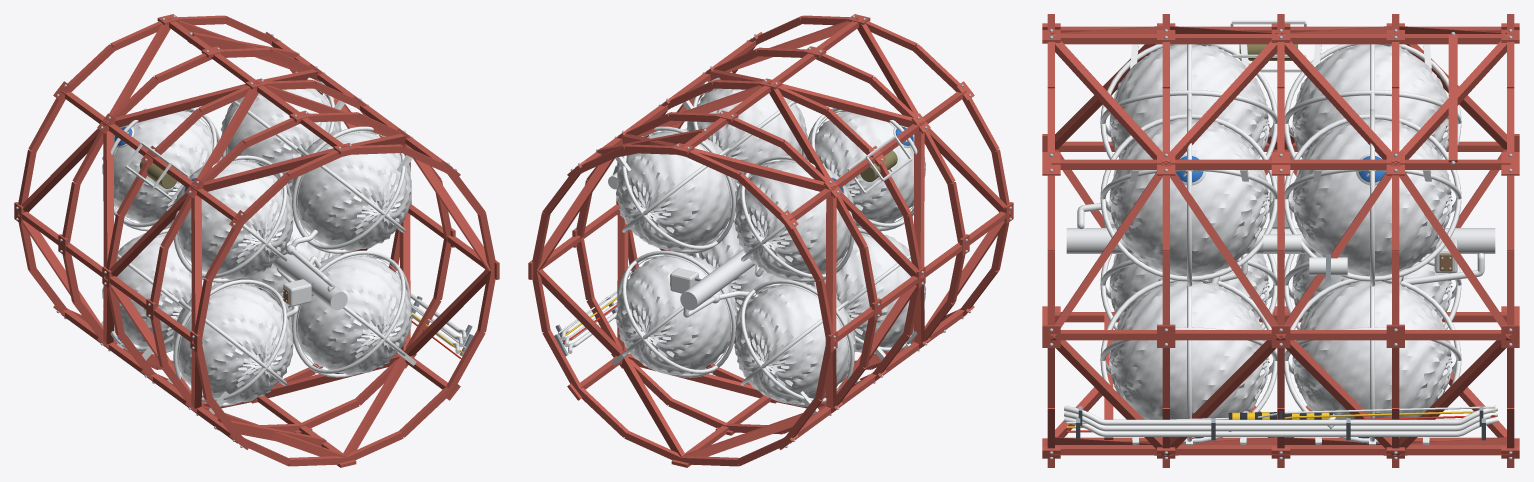
File: tank-6-rcs.glb
3 views of the same model, side by side, from view 1: azimuth 30°, elevation 25°; view 2: azimuth 150°, elevation 25°; view 3: azimuth 270°, elevation 25° (orthographic). The views are drawn at different scales.
Visible parts, largest first — view 1: rcs_red_box_truss, rcs_sphere_1_3, rcs_sphere_1_0, rcs_sphere_1_2, rcs_sphere_1_1, rcs_sphere_0_1, rcs_sphere_0_2, rcs_sphere_0_0, manifold_spine, rcs_sphere_0_3, rcs_sphere_cage_1_3_0, rcs_sphere_cage_1_3_1 (+13 smaller); view 2: rcs_red_box_truss, rcs_sphere_0_3, rcs_sphere_0_2, rcs_sphere_0_0, rcs_sphere_0_1, rcs_sphere_1_1, rcs_sphere_1_2, rcs_sphere_1_0, rcs_sphere_1_3, manifold_spine, rcs_sphere_cage_0_3_0, rcs_sphere_cage_0_3_1 (+13 smaller); view 3: rcs_red_box_truss, rcs_sphere_1_3, rcs_sphere_1_0, rcs_sphere_0_0, rcs_sphere_0_3, rcs_sphere_1_1, rcs_sphere_0_1, rcs_white_external_pipe_bundle, manifold_spine, rcs_sphere_1_2, rcs_sphere_cage_1_0_1, rcs_sphere_cage_0_0_1 (+26 smaller).
Part boxes in pixels (<box>): rcs_red_box_truss: <box>14,14,499,467</box>; rcs_sphere_1_3: <box>291,253,411,375</box>; rcs_sphere_1_0: <box>291,129,411,251</box>; rcs_sphere_1_2: <box>172,282,293,404</box>; rcs_sphere_1_1: <box>172,159,293,279</box>; rcs_sphere_0_1: <box>102,108,222,228</box>; rcs_sphere_0_2: <box>102,233,222,351</box>; rcs_sphere_0_0: <box>220,88,341,192</box>; manifold_spine: <box>272,254,347,310</box>; rcs_sphere_0_3: <box>228,216,341,308</box>; rcs_sphere_cage_1_3_0: <box>292,250,410,377</box>; rcs_sphere_cage_1_3_1: <box>297,255,405,373</box>; rcs_red_box_truss: <box>528,14,1013,467</box>; rcs_sphere_0_3: <box>616,253,737,374</box>; rcs_sphere_0_2: <box>734,282,855,403</box>; rcs_sphere_0_0: <box>616,129,737,250</box>; rcs_sphere_0_1: <box>734,159,855,279</box>; rcs_sphere_1_1: <box>805,106,925,228</box>; rcs_sphere_1_2: <box>805,233,925,352</box>; rcs_sphere_1_0: <box>686,88,807,190</box>; rcs_sphere_1_3: <box>687,213,801,314</box>; manifold_spine: <box>680,249,755,310</box>; rcs_sphere_cage_0_3_0: <box>617,250,735,377</box>; rcs_sphere_cage_0_3_1: <box>622,255,729,373</box>; rcs_red_box_truss: <box>1042,14,1519,467</box>; rcs_sphere_1_3: <box>1109,281,1269,419</box>; rcs_sphere_1_0: <box>1109,118,1269,276</box>; rcs_sphere_0_0: <box>1292,118,1452,276</box>; rcs_sphere_0_3: <box>1292,281,1452,419</box>; rcs_sphere_1_1: <box>1109,44,1269,158</box>; rcs_sphere_0_1: <box>1292,44,1448,158</box>; rcs_white_external_pipe_bundle: <box>1064,405,1497,436</box>; manifold_spine: <box>1066,228,1495,253</box>; rcs_sphere_1_2: <box>1109,254,1269,320</box>; rcs_sphere_cage_1_0_1: <box>1100,114,1277,281</box>; rcs_sphere_cage_0_0_1: <box>1284,114,1461,281</box>.
Size of the model in its own units: 6.01 by 6.03 by 6.24.
